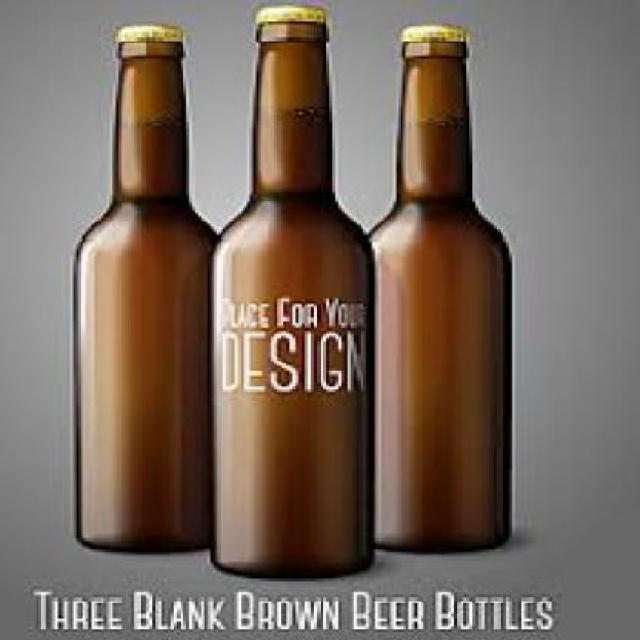kaca: (204, 18, 376, 577), (357, 40, 509, 549), (71, 37, 217, 552)
